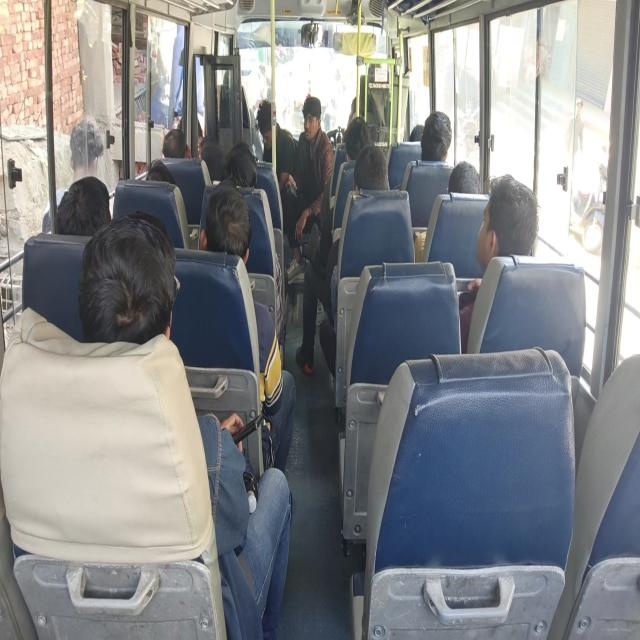person: (91, 226, 170, 341), (471, 178, 529, 268), (53, 184, 117, 249), (201, 187, 247, 259), (356, 154, 396, 202), (249, 89, 282, 146), (225, 150, 264, 192), (449, 166, 485, 204), (422, 114, 449, 162), (344, 113, 370, 158), (300, 98, 326, 141), (150, 154, 181, 190), (164, 125, 193, 162), (409, 126, 421, 147)
